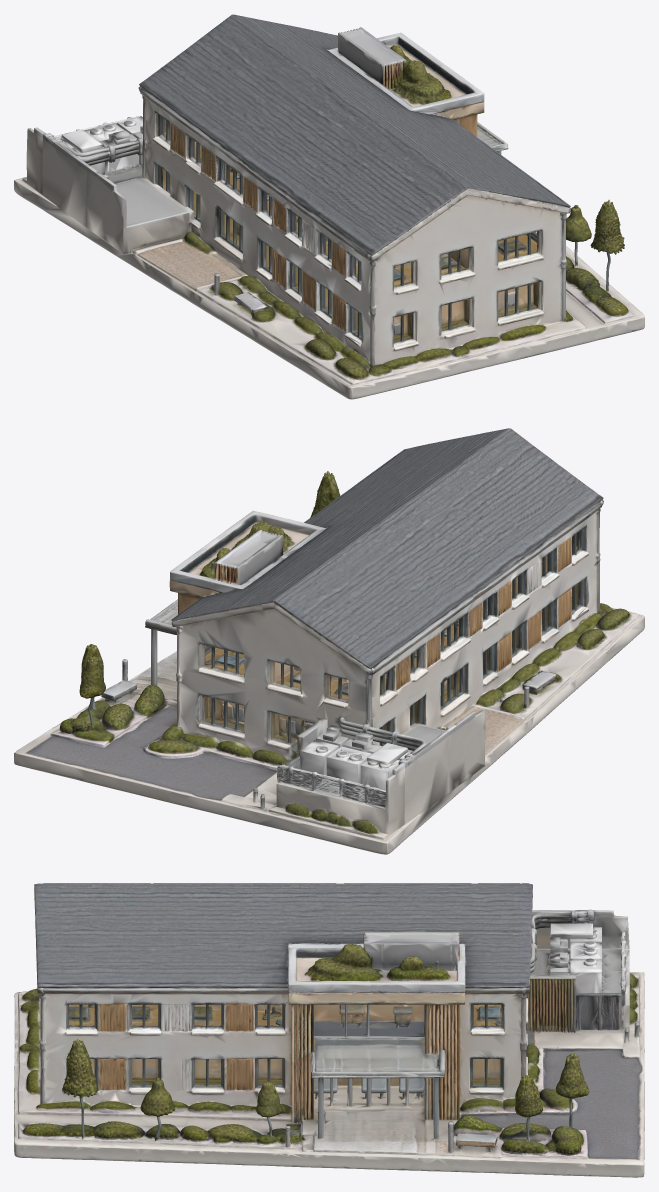
The model's file is b7-datacenter.glb.
The picture shows the model from 3 angles, top to bottom: view 1: azimuth 30°, elevation 25°; view 2: azimuth 150°, elevation 25°; view 3: azimuth 270°, elevation 25°; orthographic projection. The views are drawn at different scales.
Visible parts, largest first — view 1: tripo_node_91a79ff4-2845-4de9-b7b0-4a4ff3624c56; view 2: tripo_node_91a79ff4-2845-4de9-b7b0-4a4ff3624c56; view 3: tripo_node_91a79ff4-2845-4de9-b7b0-4a4ff3624c56.
Boxes of the visible parts, x1,y1,x2,y2 form: tripo_node_91a79ff4-2845-4de9-b7b0-4a4ff3624c56: (14, 14, 644, 399); tripo_node_91a79ff4-2845-4de9-b7b0-4a4ff3624c56: (14, 428, 644, 854); tripo_node_91a79ff4-2845-4de9-b7b0-4a4ff3624c56: (14, 883, 644, 1177).
Bounding box in the file's own units: 0.7093 × 0.3204 × 0.9814.
1 material, 1 textured.
